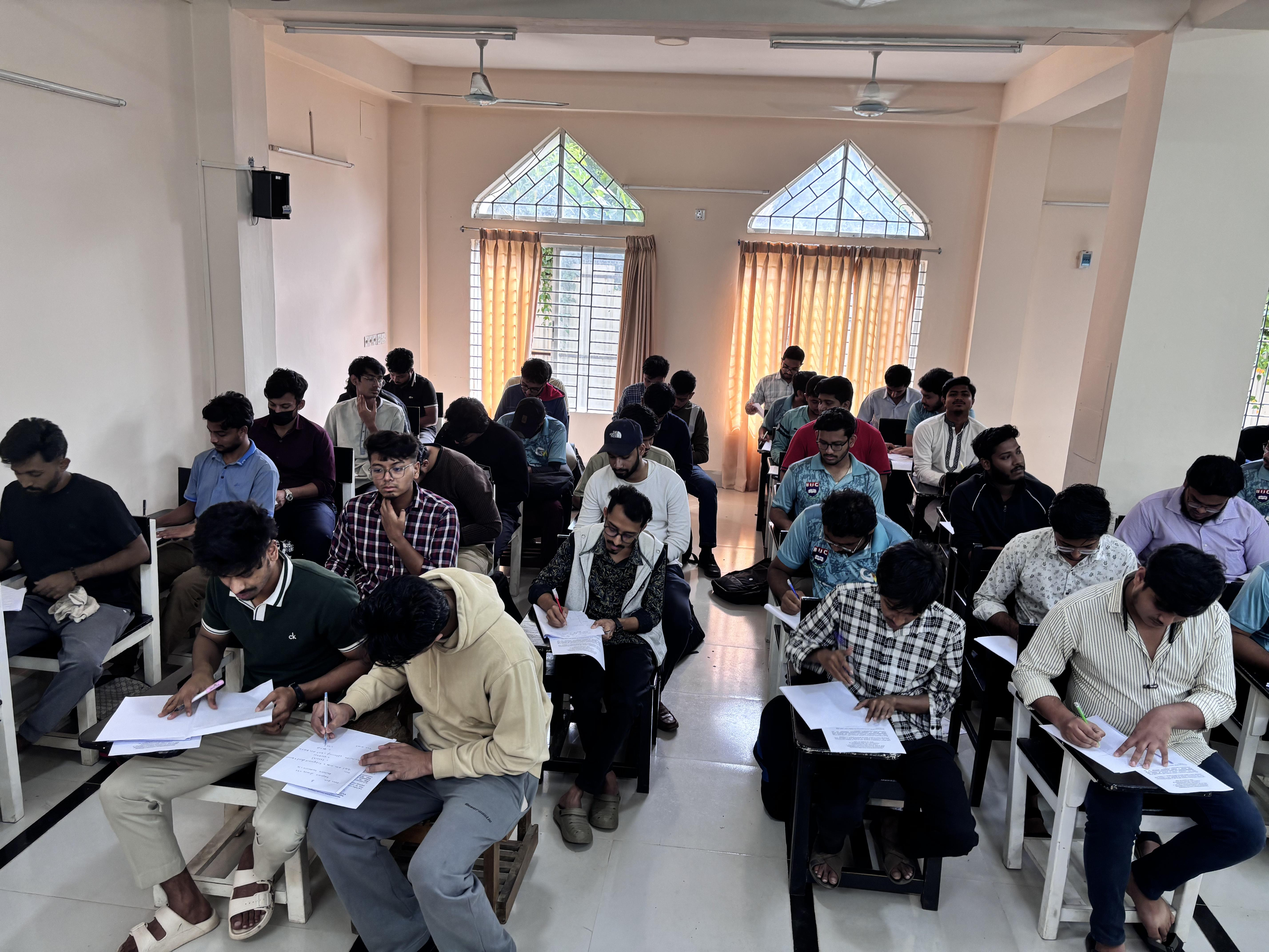copying: (330, 346, 403, 436), (910, 368, 949, 429), (812, 372, 855, 420)
no_cheating: (309, 564, 539, 909), (1022, 544, 1255, 857), (137, 500, 351, 819), (779, 540, 976, 817), (0, 410, 138, 729), (533, 487, 673, 689), (343, 426, 452, 589), (1001, 478, 1116, 596), (1147, 439, 1257, 551), (780, 490, 891, 591), (180, 391, 262, 512), (428, 393, 520, 486), (792, 417, 886, 499), (254, 359, 314, 479), (383, 340, 451, 421), (929, 374, 987, 452), (504, 400, 572, 466), (593, 422, 653, 490), (867, 356, 917, 426), (507, 359, 567, 417), (771, 345, 809, 389), (670, 367, 700, 416)
side_talking: (967, 422, 1041, 512)
